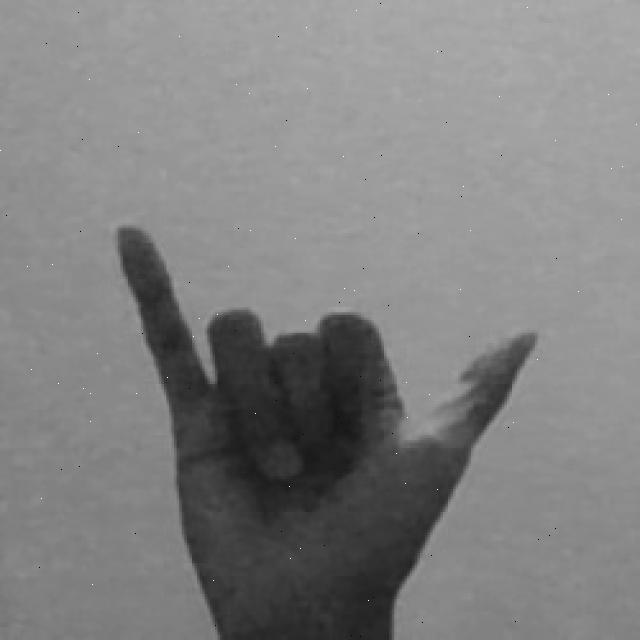Y: (105, 215, 547, 640)
